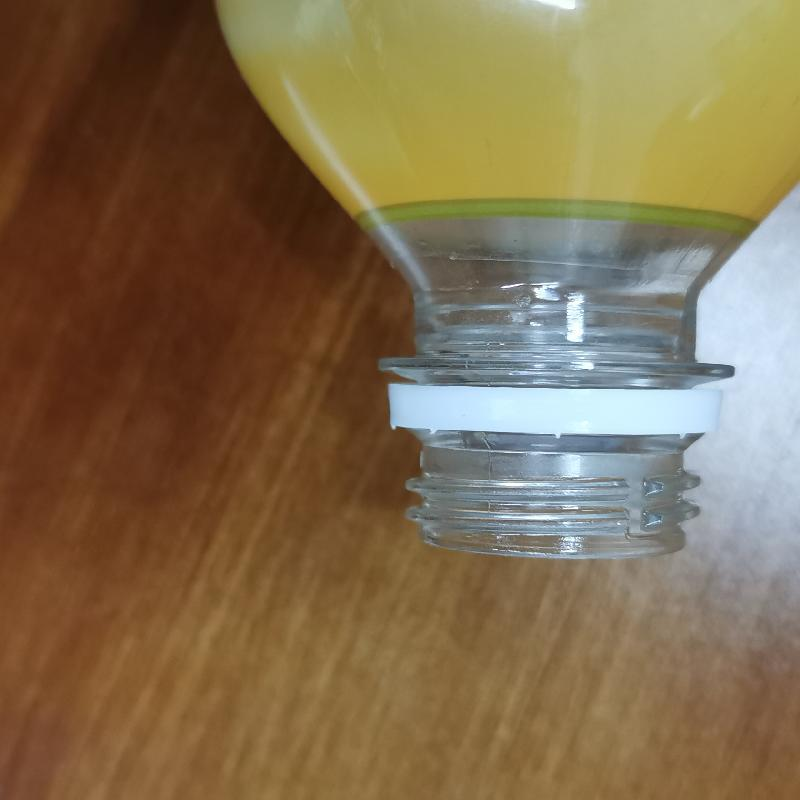bottles: (207, 0, 798, 563)
